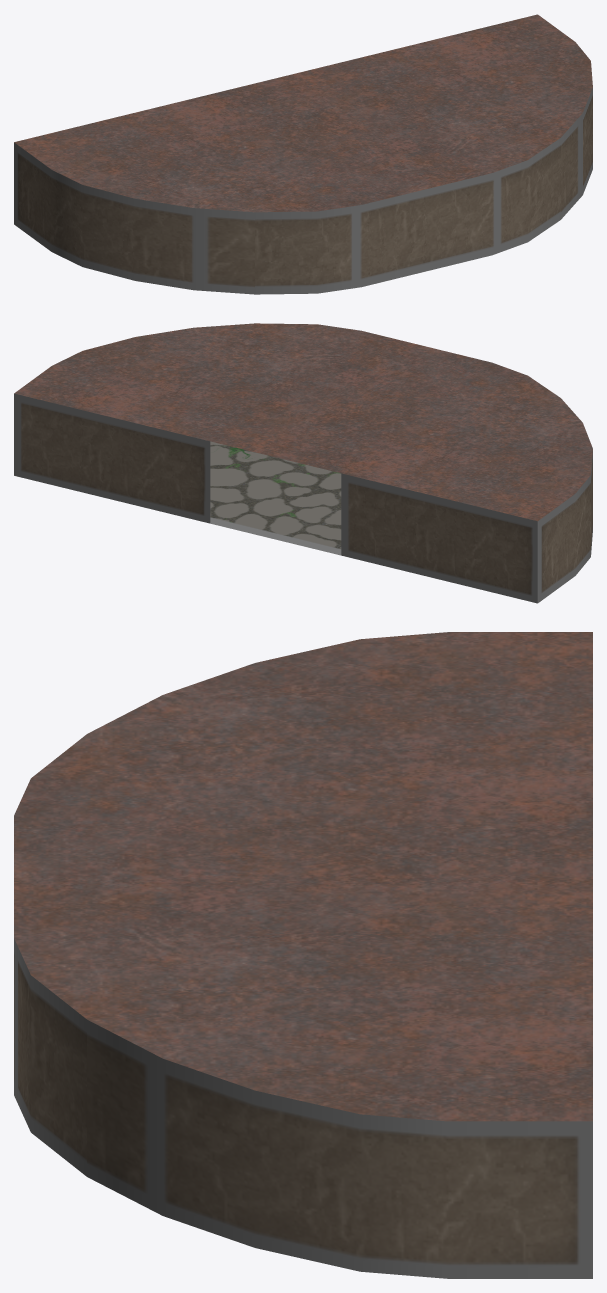
Rendered from SemiCircle.fbx.
3 renders of one model, top to bottom at view 1: azimuth 30°, elevation 25°; view 2: azimuth 150°, elevation 25°; view 3: azimuth 270°, elevation 25°, orthographic. The views are drawn at different scales.
Visible parts, largest first — view 1: pSemiCircle_OneDoor_N; view 2: pSemiCircle_OneDoor_N; view 3: pSemiCircle_OneDoor_N.
Part boxes in pixels (bbox=[...]): pSemiCircle_OneDoor_N: bbox=[14, 14, 592, 294]; pSemiCircle_OneDoor_N: bbox=[14, 323, 592, 603]; pSemiCircle_OneDoor_N: bbox=[14, 632, 592, 1278].
Bounding box in the file's own units: 8 × 1.2 × 4.
